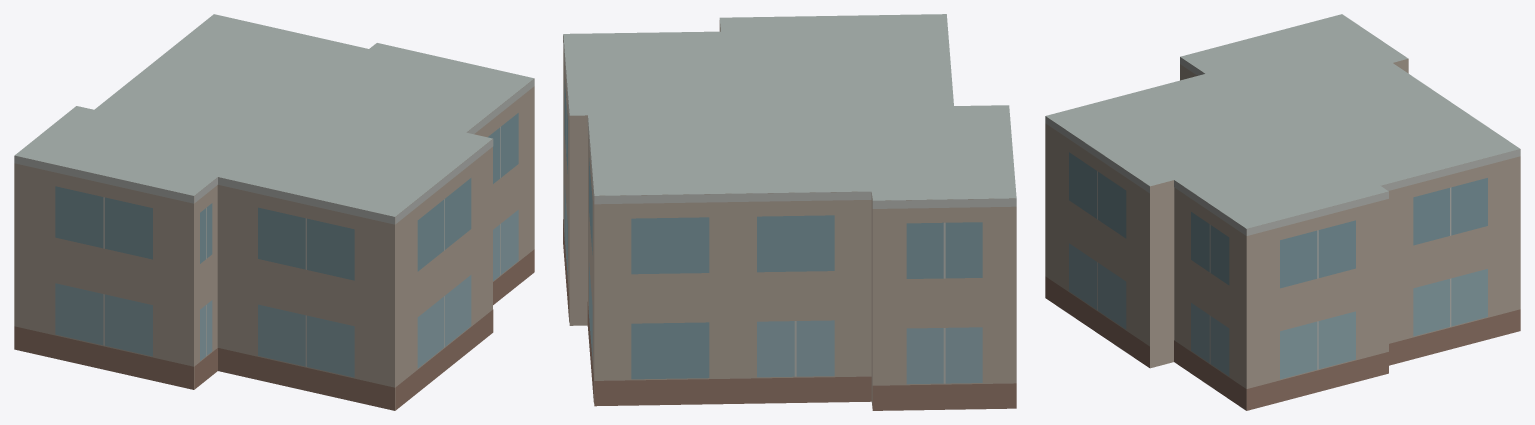
The model's file is survey-upis-32816332.glb.
3 renders of one model, left to right at view 1: azimuth 30°, elevation 25°; view 2: azimuth 150°, elevation 25°; view 3: azimuth 270°, elevation 25°, orthographic. The views are drawn at different scales.
Parts seen in each view (by area): view 1: survey-upis-32816332.tmp; view 2: survey-upis-32816332.tmp; view 3: survey-upis-32816332.tmp.
Boxes of the visible parts, x1,y1,x2,y2 form: survey-upis-32816332.tmp: [14, 14, 534, 410]; survey-upis-32816332.tmp: [563, 14, 1016, 410]; survey-upis-32816332.tmp: [1045, 14, 1520, 410].
Bounding box in the file's own units: 15.45 × 6.1 × 14.44.
